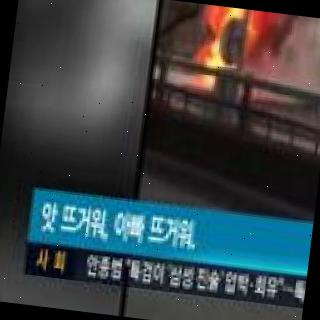fire: (186, 3, 281, 100)
